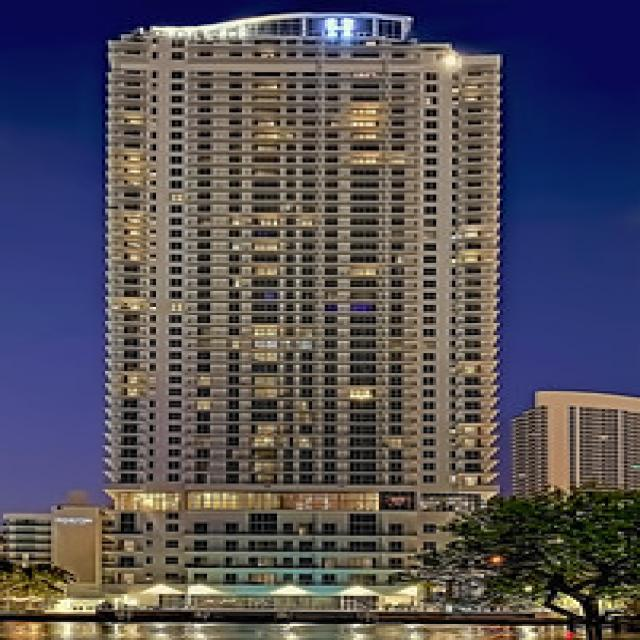Normal_building: (94, 8, 514, 616)
